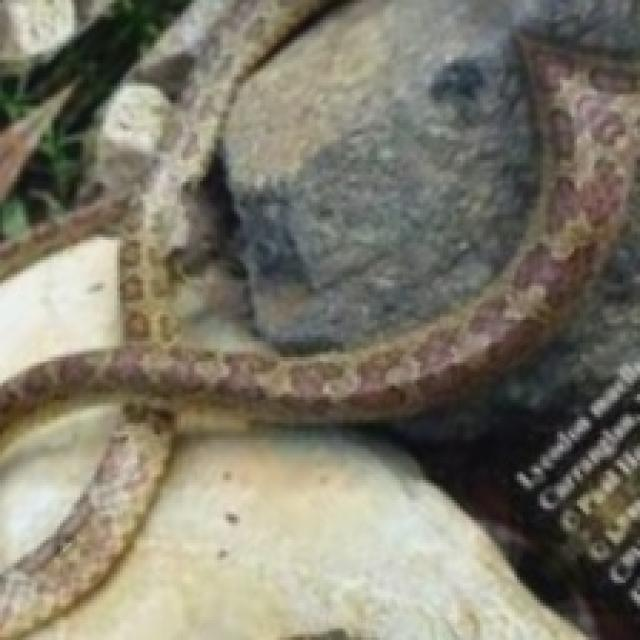mullers wolf snake: (0, 0, 637, 637), (540, 411, 637, 586)
